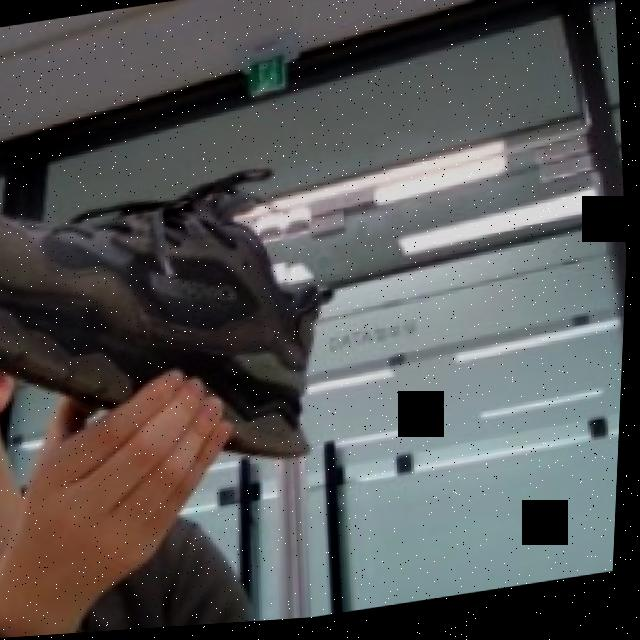shoes: (0, 109, 406, 565)
